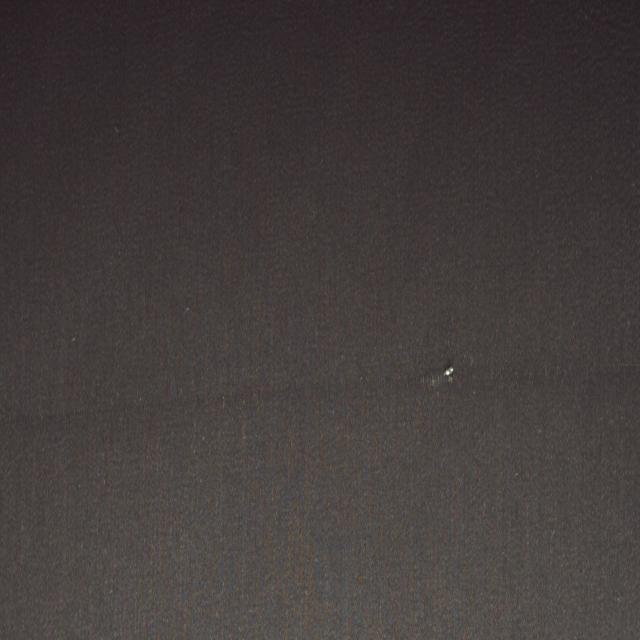Knot: (444, 367, 454, 376)
